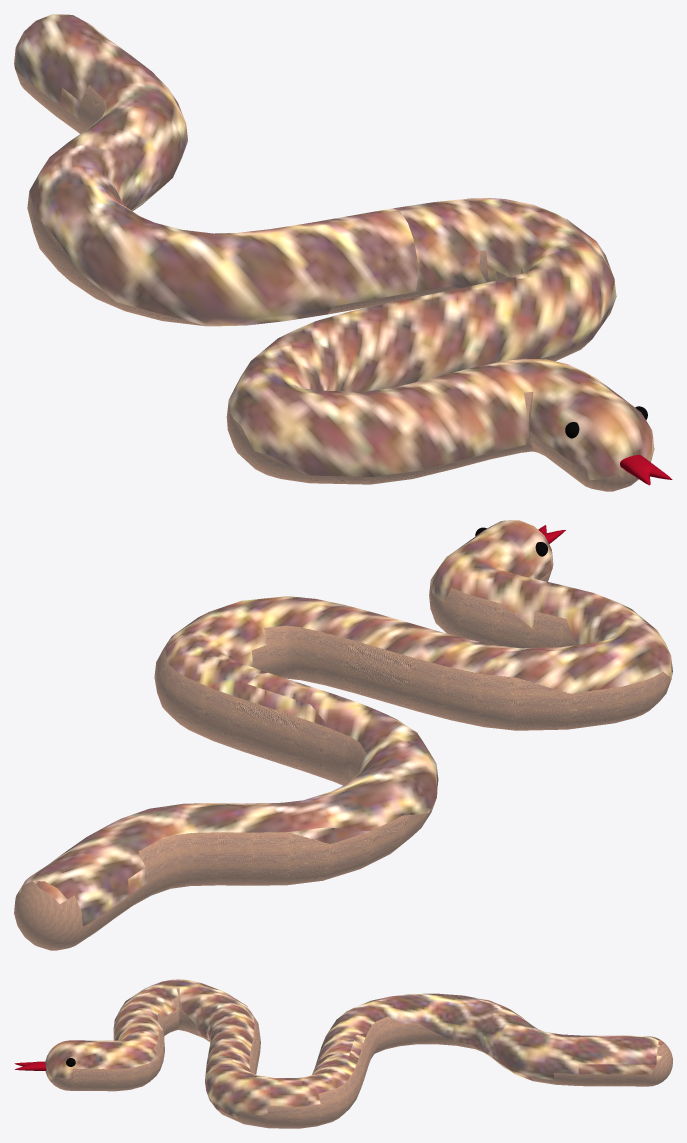
The picture shows the model from 3 angles, top to bottom: view 1: azimuth 30°, elevation 25°; view 2: azimuth 150°, elevation 25°; view 3: azimuth 270°, elevation 25°; orthographic projection. The views are drawn at different scales.
Visible parts, largest first — view 1: node_id11, node_id14; view 2: node_id11; view 3: node_id11, node_id14.
Boxes of the visible parts, box(x1,y1,x2,y2) form: node_id11: box(14, 14, 654, 491); node_id14: box(620, 455, 672, 485); node_id11: box(14, 520, 672, 950); node_id11: box(45, 979, 672, 1128); node_id14: box(14, 1061, 46, 1070).
Size of the model in its own units: 0.9469 by 0.1685 by 2.2.
Materials: 4 (1 with a texture image).
